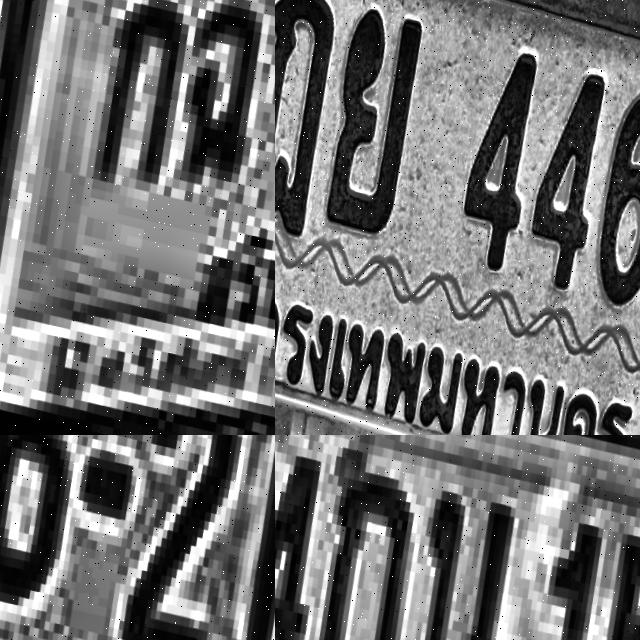license-plate: (275, 0, 640, 435), (0, 0, 275, 435), (275, 435, 640, 640), (0, 435, 275, 640)
